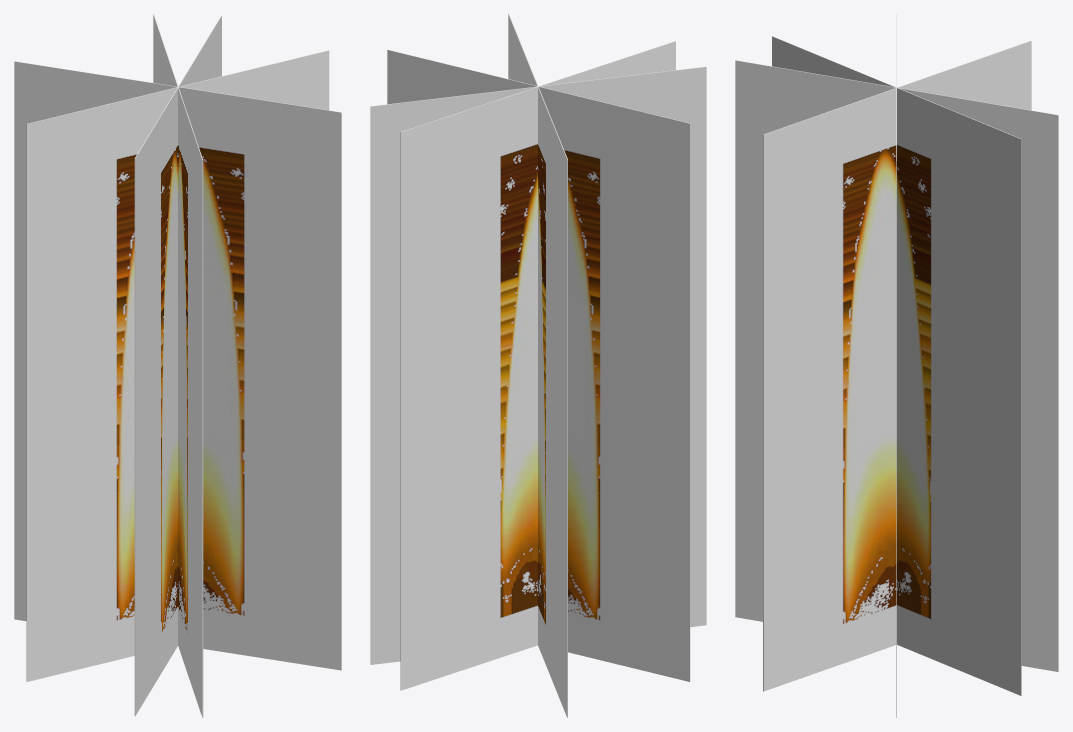
The model's file is Flame 1.fbx.
3 renders of one model, left to right at view 1: azimuth 30°, elevation 25°; view 2: azimuth 150°, elevation 25°; view 3: azimuth 270°, elevation 25°, orthographic.
Visible parts, largest first — view 1: flame 1; view 2: flame 1; view 3: flame 1.
Part boxes in pixels (x1,y1,x2,y2): flame 1: [14, 14, 341, 717]; flame 1: [370, 14, 706, 717]; flame 1: [735, 14, 1058, 717].
Bounding box in the file's own units: 4.7 × 8.29 × 4.37.
Materials: 1 (1 with a texture image).
